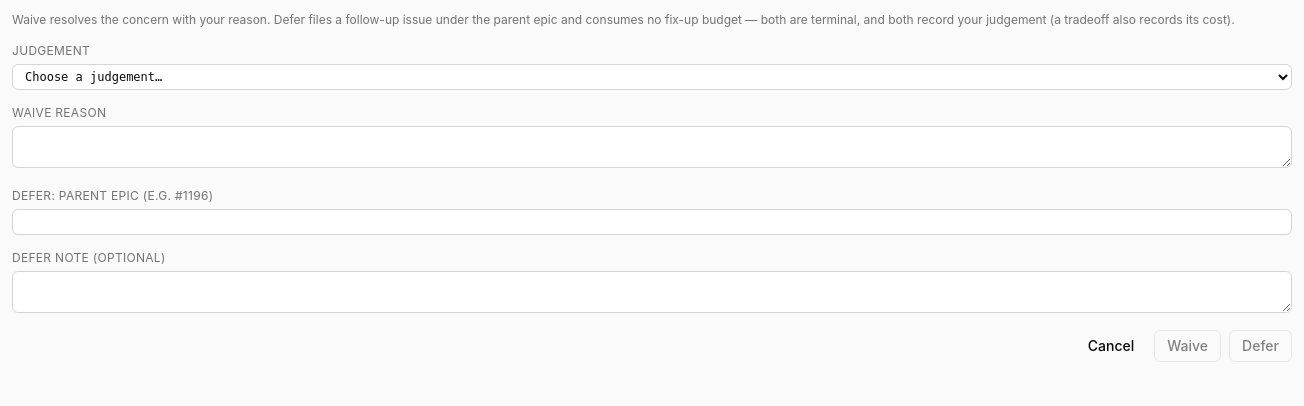
DecisionPanel — failure modes leave the item (onResolved not called) › F3: concern defer 502 work_item_filing_failed surfaces the error, no resolve
Select "defect — a real defect in this change" in the dropdown labelled "Judgement" at (652, 77), box [12, 64, 1292, 90]
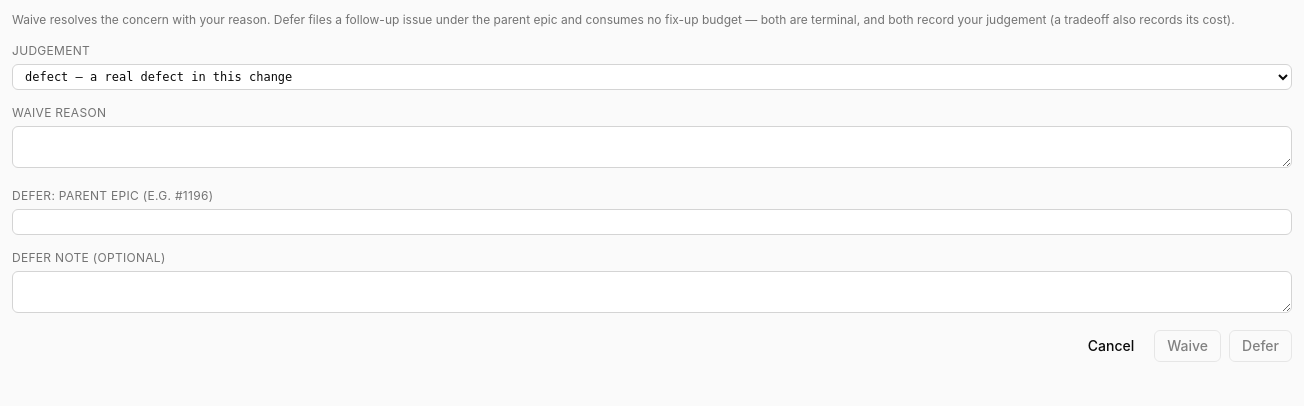
Type "#1196" into the field labelled "Defer: parent epic (e.g. #1196)" at (652, 222), box [12, 209, 1292, 235]
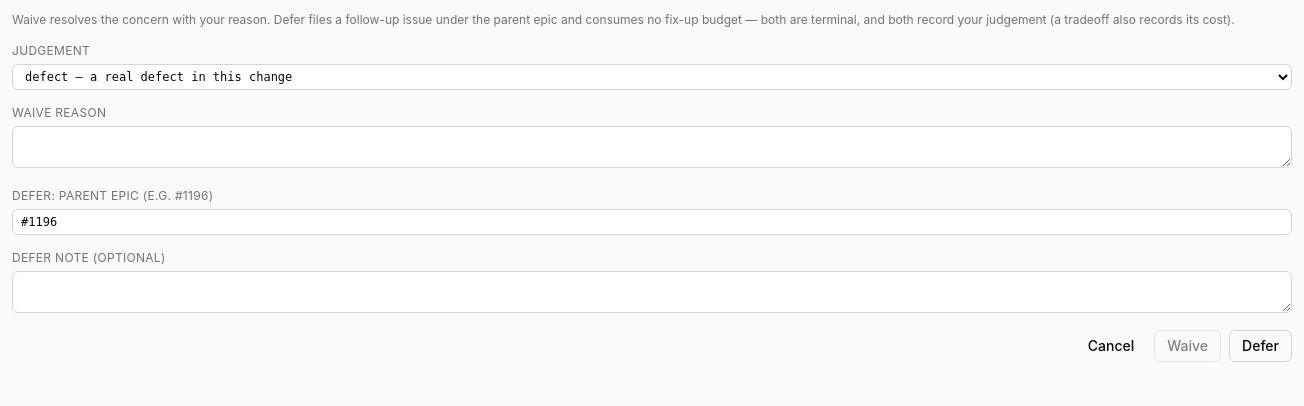
Click the button "Defer" at (1261, 346), box [1229, 330, 1292, 362]
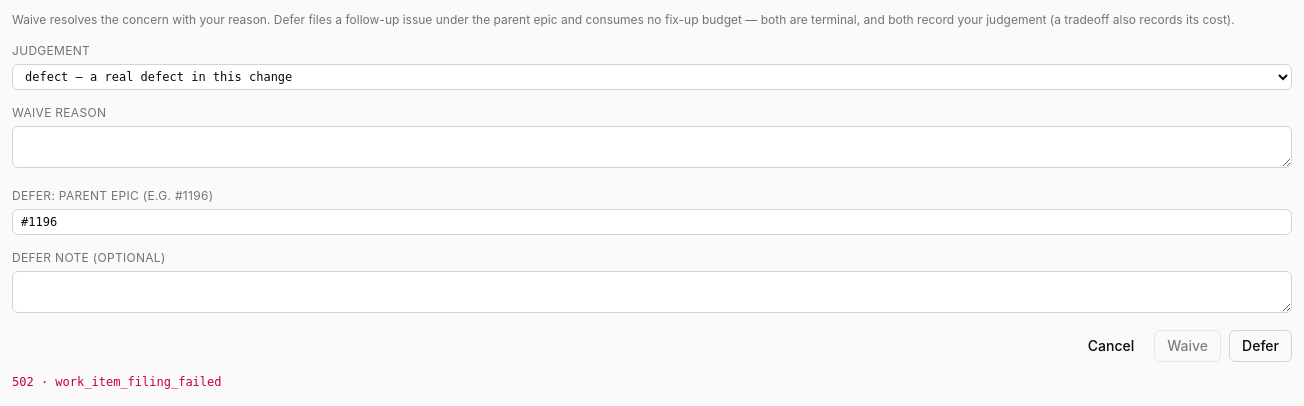
Now the message reads "502 · work_item_filing_failed", box [12, 375, 222, 389]
